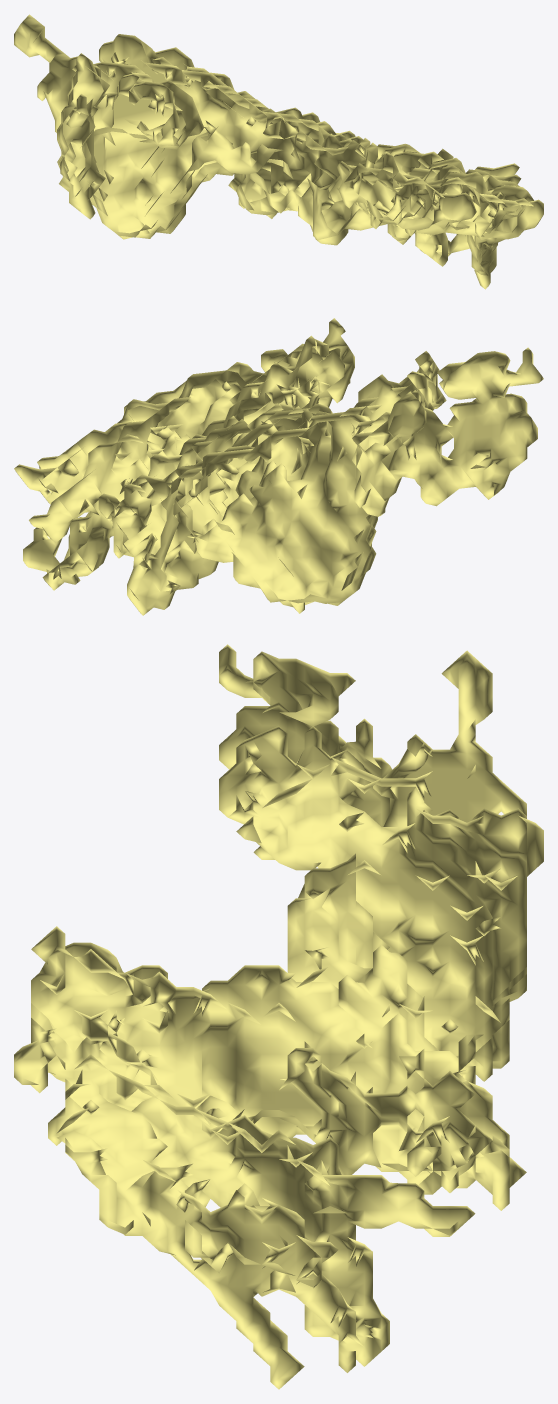
File: osteocyte_120.glb
3 renders of one model, top to bottom at view 1: azimuth 30°, elevation 25°; view 2: azimuth 150°, elevation 25°; view 3: azimuth 270°, elevation 25°, orthographic. The views are drawn at different scales.
Parts seen in each view (by area): view 1: osteocyte_120; view 2: osteocyte_120; view 3: osteocyte_120.
Part boxes in pixels (x1,y1,x2,y2): osteocyte_120: [14, 14, 543, 289]; osteocyte_120: [14, 318, 543, 615]; osteocyte_120: [14, 644, 543, 1389].
Size of the model in its own units: 22.63 by 14.44 by 14.93.
